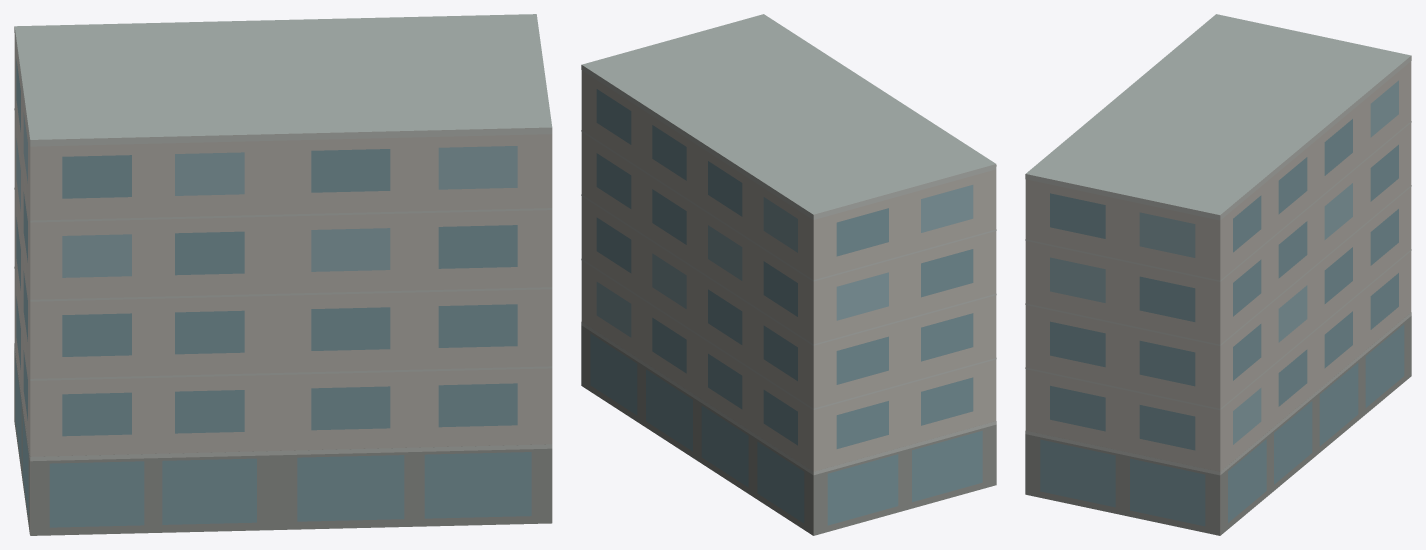
File: survey-upis-32964426.glb
3 views of the same model, side by side, from view 1: azimuth 30°, elevation 25°; view 2: azimuth 150°, elevation 25°; view 3: azimuth 270°, elevation 25° (orthographic). The views are drawn at different scales.
Parts seen in each view (by area): view 1: survey-upis-32964426.tmp; view 2: survey-upis-32964426.tmp; view 3: survey-upis-32964426.tmp.
Boxes of the visible parts, bbox=[...] form: survey-upis-32964426.tmp: bbox=[14, 14, 552, 535]; survey-upis-32964426.tmp: bbox=[581, 14, 996, 535]; survey-upis-32964426.tmp: bbox=[1025, 14, 1411, 535].
Bounding box in the file's own units: 19.53 × 14.5 × 15.84.
